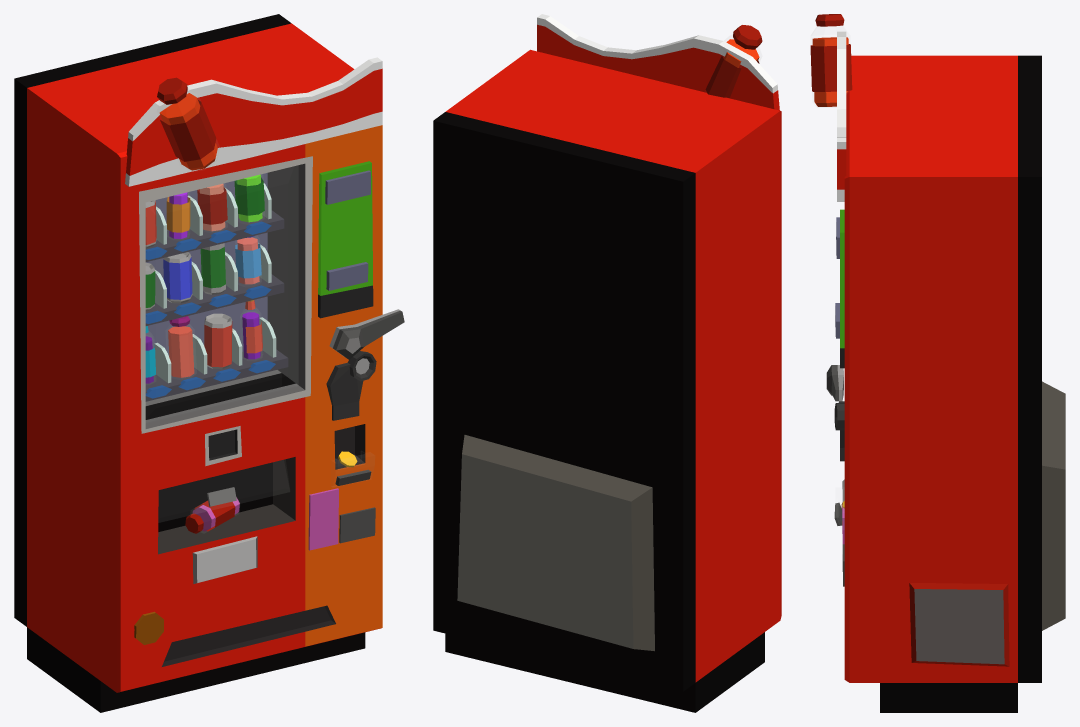
The model's file is expendedora.gltf.
3 views of the same model, side by side, from view 1: azimuth 30°, elevation 25°; view 2: azimuth 150°, elevation 25°; view 3: azimuth 270°, elevation 25° (orthographic). The views are drawn at different scales.
Parts seen in each view (by area): view 1: Expendedora; view 2: Expendedora; view 3: Expendedora.
Boxes of the visible parts, x1,y1,x2,y2 form: Expendedora: (14, 14, 404, 712); Expendedora: (433, 14, 781, 712); Expendedora: (810, 14, 1065, 712).
Size of what is drawn, in the model's own units: 0.933 by 2.04 by 0.785.
Materials: 3 (2 with a texture image).
